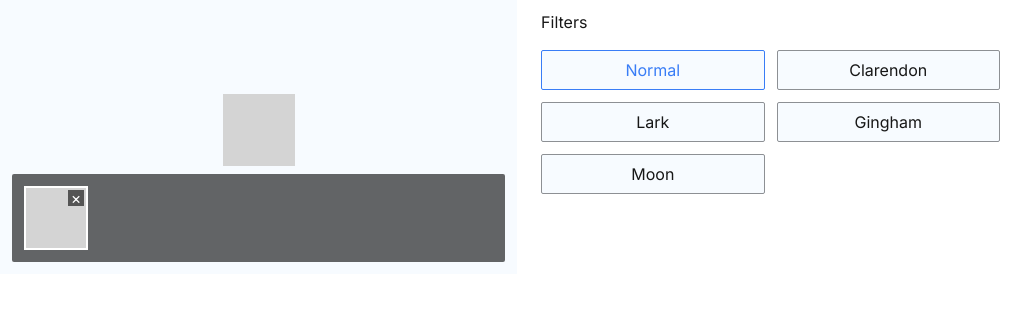
Scenario: FiltersStep › closes the bitmap when drawing the filtered image fails
Click the button "Clarendon" at (888, 70), box [776,50,1000,90]
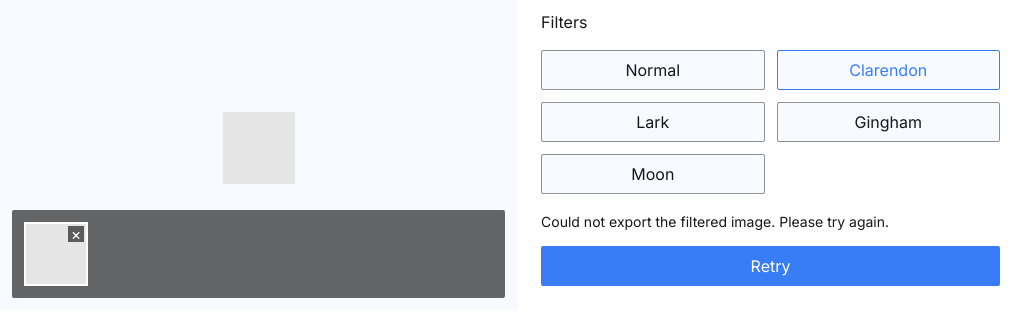
Expected: the message "Could not export the filtered image. Please try again. Retry" is shown, [541,210,1000,286]
